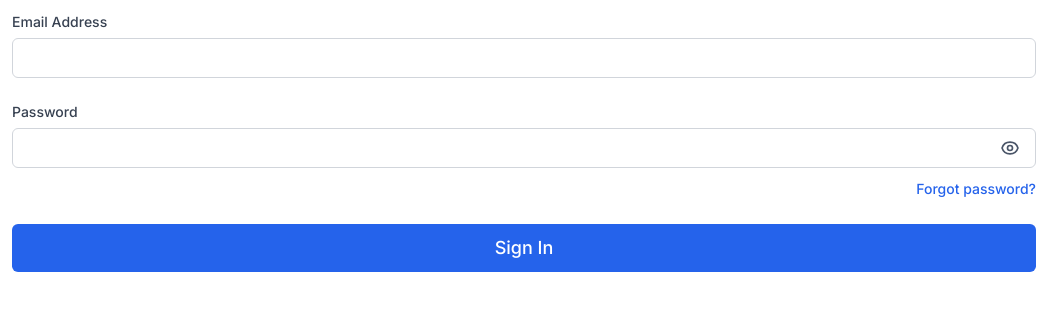
Scenario: Error Recovery Flow - Integration Tests › 6.3: Error recovery flow › Login Form Error Recovery › should clear validation errors when user starts typing
// Enter invalid email and trigger validation
Type "invalid-email" into the field labelled "Email Address" at (524, 58), box [12,38,1036,78]
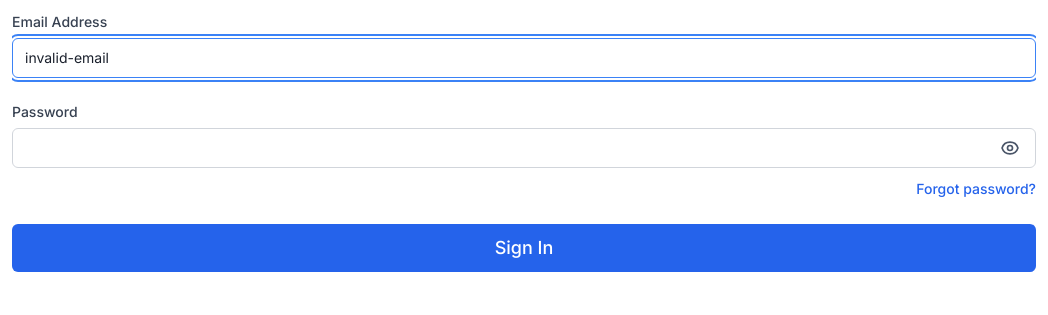
Press Tab
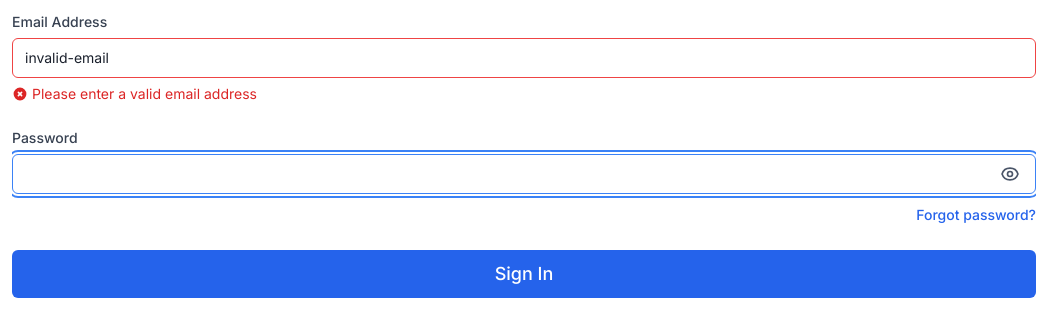
Now the text "Please enter a valid email address" is shown, box [32,84,257,104]
// Start typing again to correct the error
Type "@example.com" into the field labelled "Email Address" at (524, 58), box [12,38,1036,78]
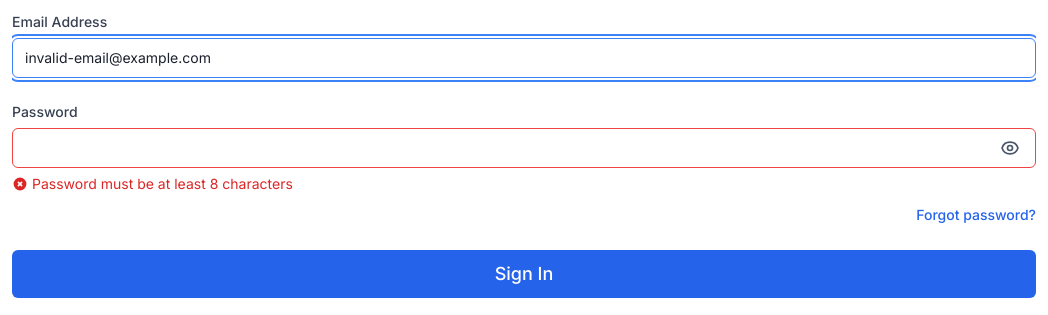
Now the text "Please enter a valid email address" is gone
